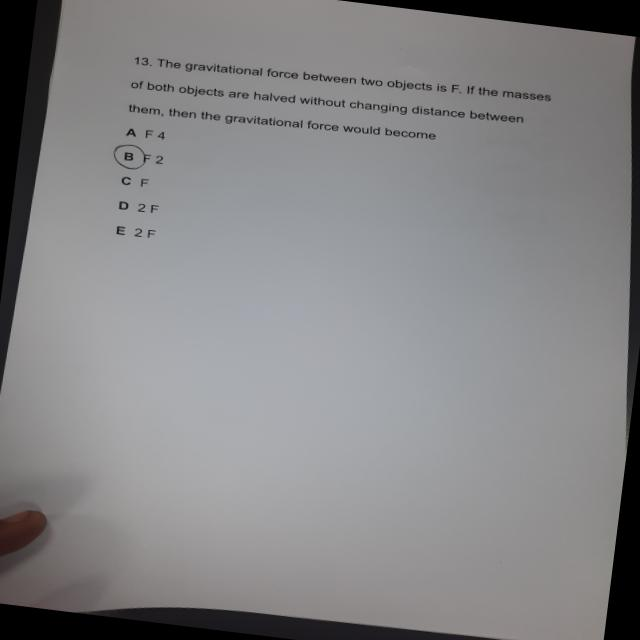B: (107, 142, 151, 172)
